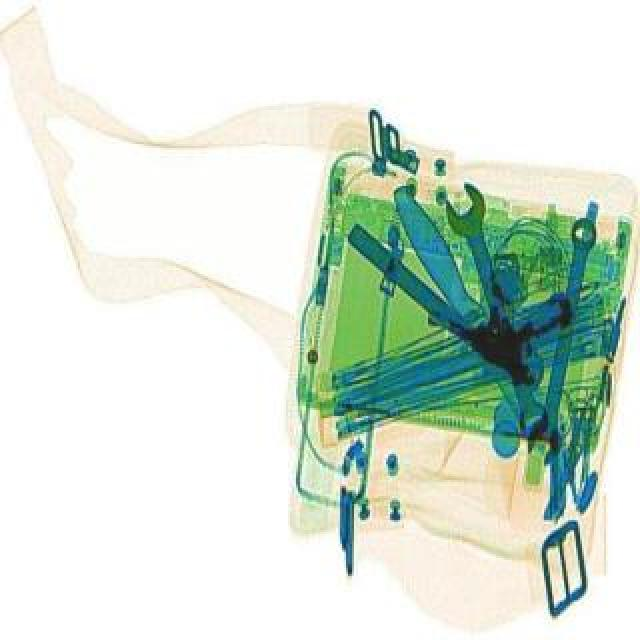gun: (418, 248, 596, 402)
knife: (388, 188, 564, 470)
scissors: (442, 184, 562, 450), (522, 224, 606, 474)
